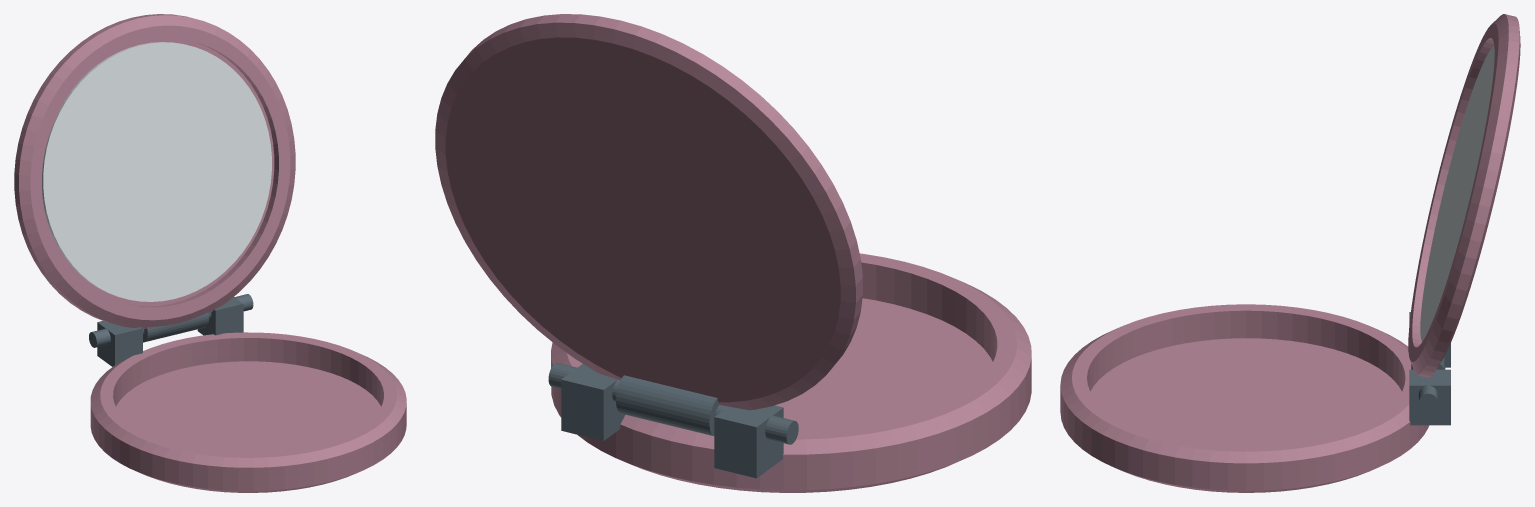
The picture shows the model from 3 angles, left to right: view 1: azimuth 30°, elevation 25°; view 2: azimuth 150°, elevation 25°; view 3: azimuth 270°, elevation 25°; orthographic projection. The views are drawn at different scales.
Visible parts, largest first — view 1: WholeSeatedOpaqueLidInset, WholeOpenRoundBaseWithSolidFloor, WholeRaisedRoundLidShell, WholeLeftRootedBaseHingeEar, WholeRightRootedBaseHingeEar, WholeCentralLidHingeCollar, WholeCompleteRearTransversePin; view 2: WholeRaisedRoundLidShell, WholeOpenRoundBaseWithSolidFloor, WholeLeftRootedBaseHingeEar, WholeCentralLidHingeCollar, WholeRightRootedBaseHingeEar, WholeCompleteRearTransversePin; view 3: WholeOpenRoundBaseWithSolidFloor, WholeRaisedRoundLidShell, WholeSeatedOpaqueLidInset, WholeRightRootedBaseHingeEar.
Boxes of the visible parts, x1,y1,x2,y2 form: WholeSeatedOpaqueLidInset: (42, 42, 271, 301); WholeOpenRoundBaseWithSolidFloor: (90, 332, 406, 492); WholeRaisedRoundLidShell: (14, 14, 295, 328); WholeLeftRootedBaseHingeEar: (97, 321, 142, 366); WholeRightRootedBaseHingeEar: (197, 297, 243, 335); WholeCentralLidHingeCollar: (143, 312, 208, 342); WholeCompleteRearTransversePin: (89, 294, 253, 347); WholeRaisedRoundLidShell: (435, 14, 862, 410); WholeOpenRoundBaseWithSolidFloor: (551, 253, 1031, 492); WholeLeftRootedBaseHingeEar: (714, 405, 783, 478); WholeCentralLidHingeCollar: (616, 375, 719, 435); WholeRightRootedBaseHingeEar: (561, 364, 624, 440); WholeCompleteRearTransversePin: (548, 363, 798, 444); WholeOpenRoundBaseWithSolidFloor: (1060, 304, 1429, 492); WholeRaisedRoundLidShell: (1408, 14, 1520, 377); WholeSeatedOpaqueLidInset: (1420, 46, 1494, 341); WholeRightRootedBaseHingeEar: (1409, 369, 1450, 425).
Bounding box in the file's own units: 0.098 × 0.1127 × 0.1213.
